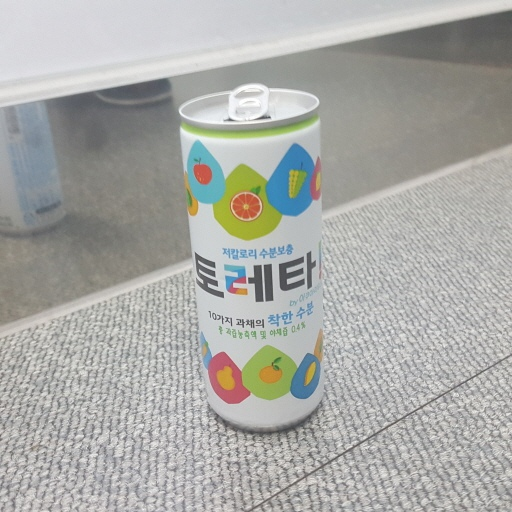Metal_0: (172, 81, 337, 430)
